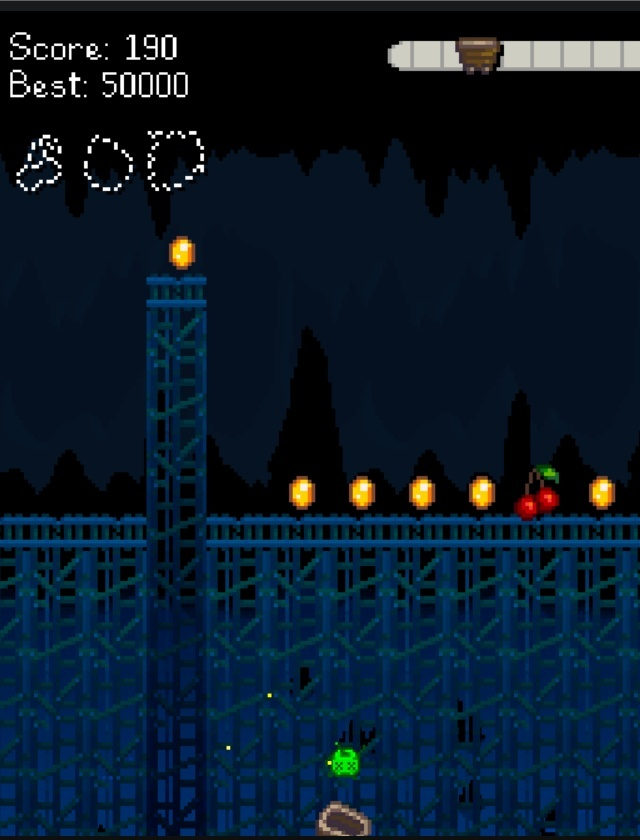cherry: (514, 464, 559, 520)
coins: (169, 236, 195, 270), (289, 476, 314, 510), (469, 476, 494, 510), (590, 476, 615, 510), (351, 476, 374, 510), (410, 477, 434, 509)
tracks: (189, 512, 639, 550), (0, 515, 166, 549), (146, 269, 208, 311)
